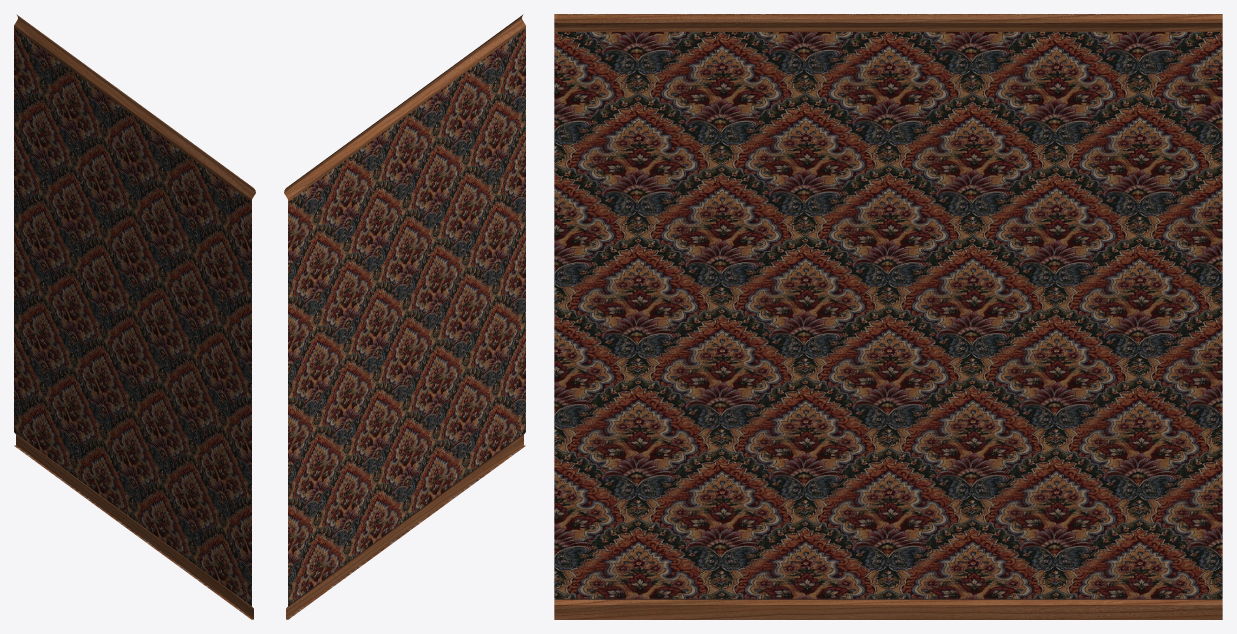
Rendered from flower_power2.dae.
3 views of the same model, side by side, from view 1: azimuth 30°, elevation 25°; view 2: azimuth 150°, elevation 25°; view 3: azimuth 270°, elevation 25° (orthographic). The views are drawn at different scales.
Visible parts, largest first — view 1: Plane_002; view 2: Plane_002; view 3: Plane_002.
Part boxes in pixels (box(x1,y1,x2,y2)): Plane_002: box(14, 14, 255, 619); Plane_002: box(284, 14, 525, 619); Plane_002: box(554, 14, 1222, 619).
Size of the model in its own units: 0.0388 by 4 by 4.
